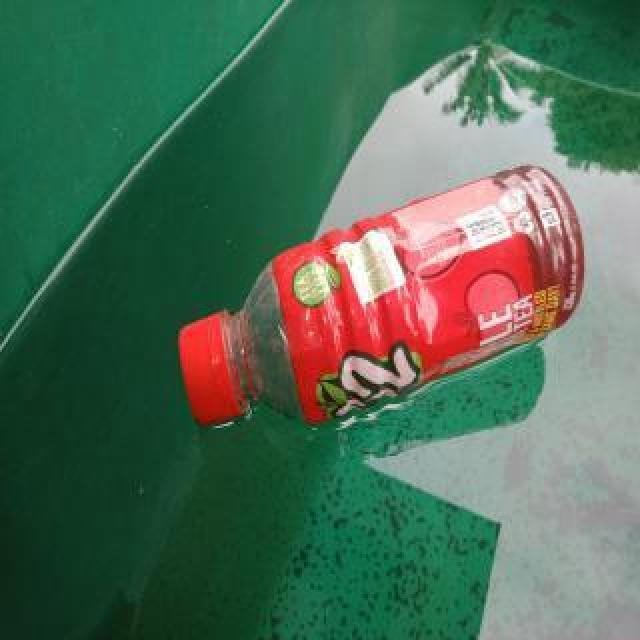bottle: (178, 163, 586, 427)
